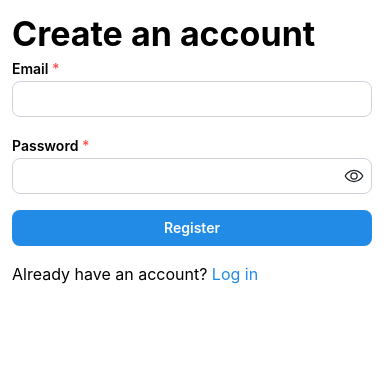
it: Register › shows an error message when registration fails
The image size is (389, 374).
In the field labelled "Email *": (192, 99) [12,81,372,117], type "existing@example.com"
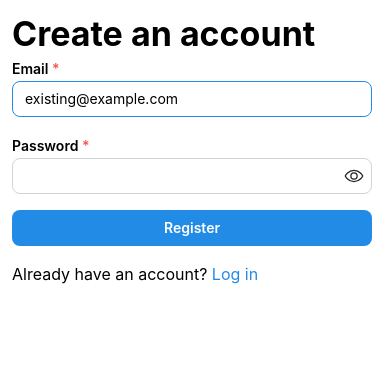
In the password field labelled "Password *": (192, 176) [13,159,371,193], type "a-strong-password"
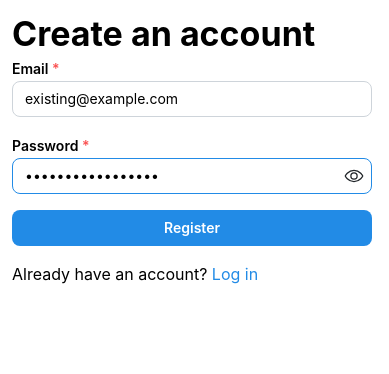
Click the button "Register": (192, 228) [12,210,372,246]
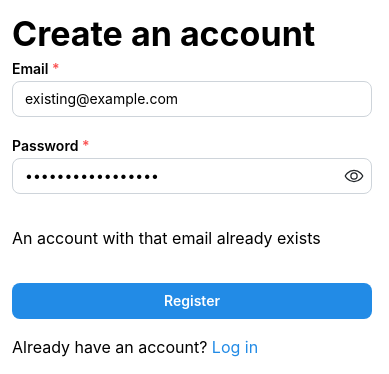
Result: the message shows "already exists" at [12,228,321,248]
